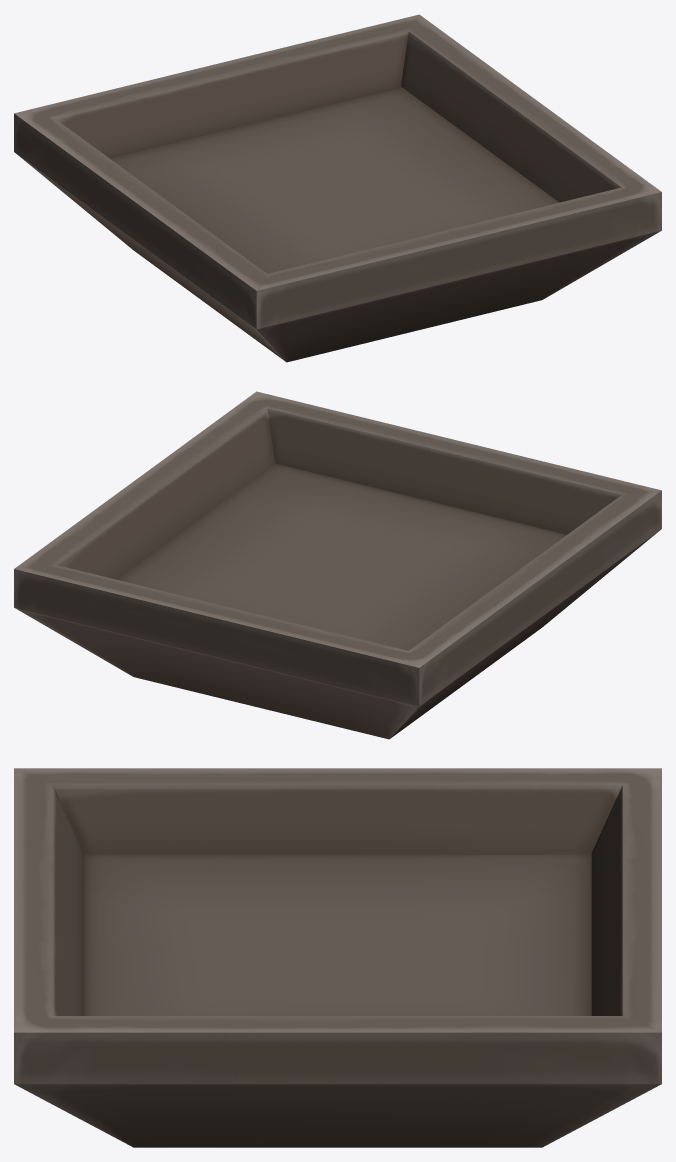
The model's file is Rack.FBX.
3 views of the same model, one above another, from view 1: azimuth 30°, elevation 25°; view 2: azimuth 150°, elevation 25°; view 3: azimuth 270°, elevation 25° (orthographic). The views are drawn at different scales.
Visible parts, largest first — view 1: Rack; view 2: Rack; view 3: Rack.
Boxes of the visible parts, x1,y1,x2,y2 form: Rack: [14, 14, 661, 362]; Rack: [14, 391, 661, 739]; Rack: [14, 768, 661, 1147].
Size of the model in its own units: 175 by 50.56 by 181.
